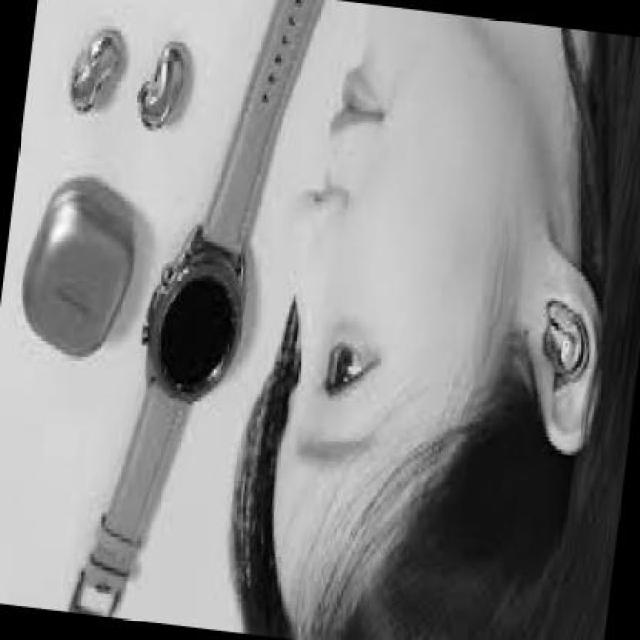earphone: (526, 289, 610, 389), (138, 34, 204, 124), (68, 24, 126, 111)
watch: (91, 2, 346, 596)
